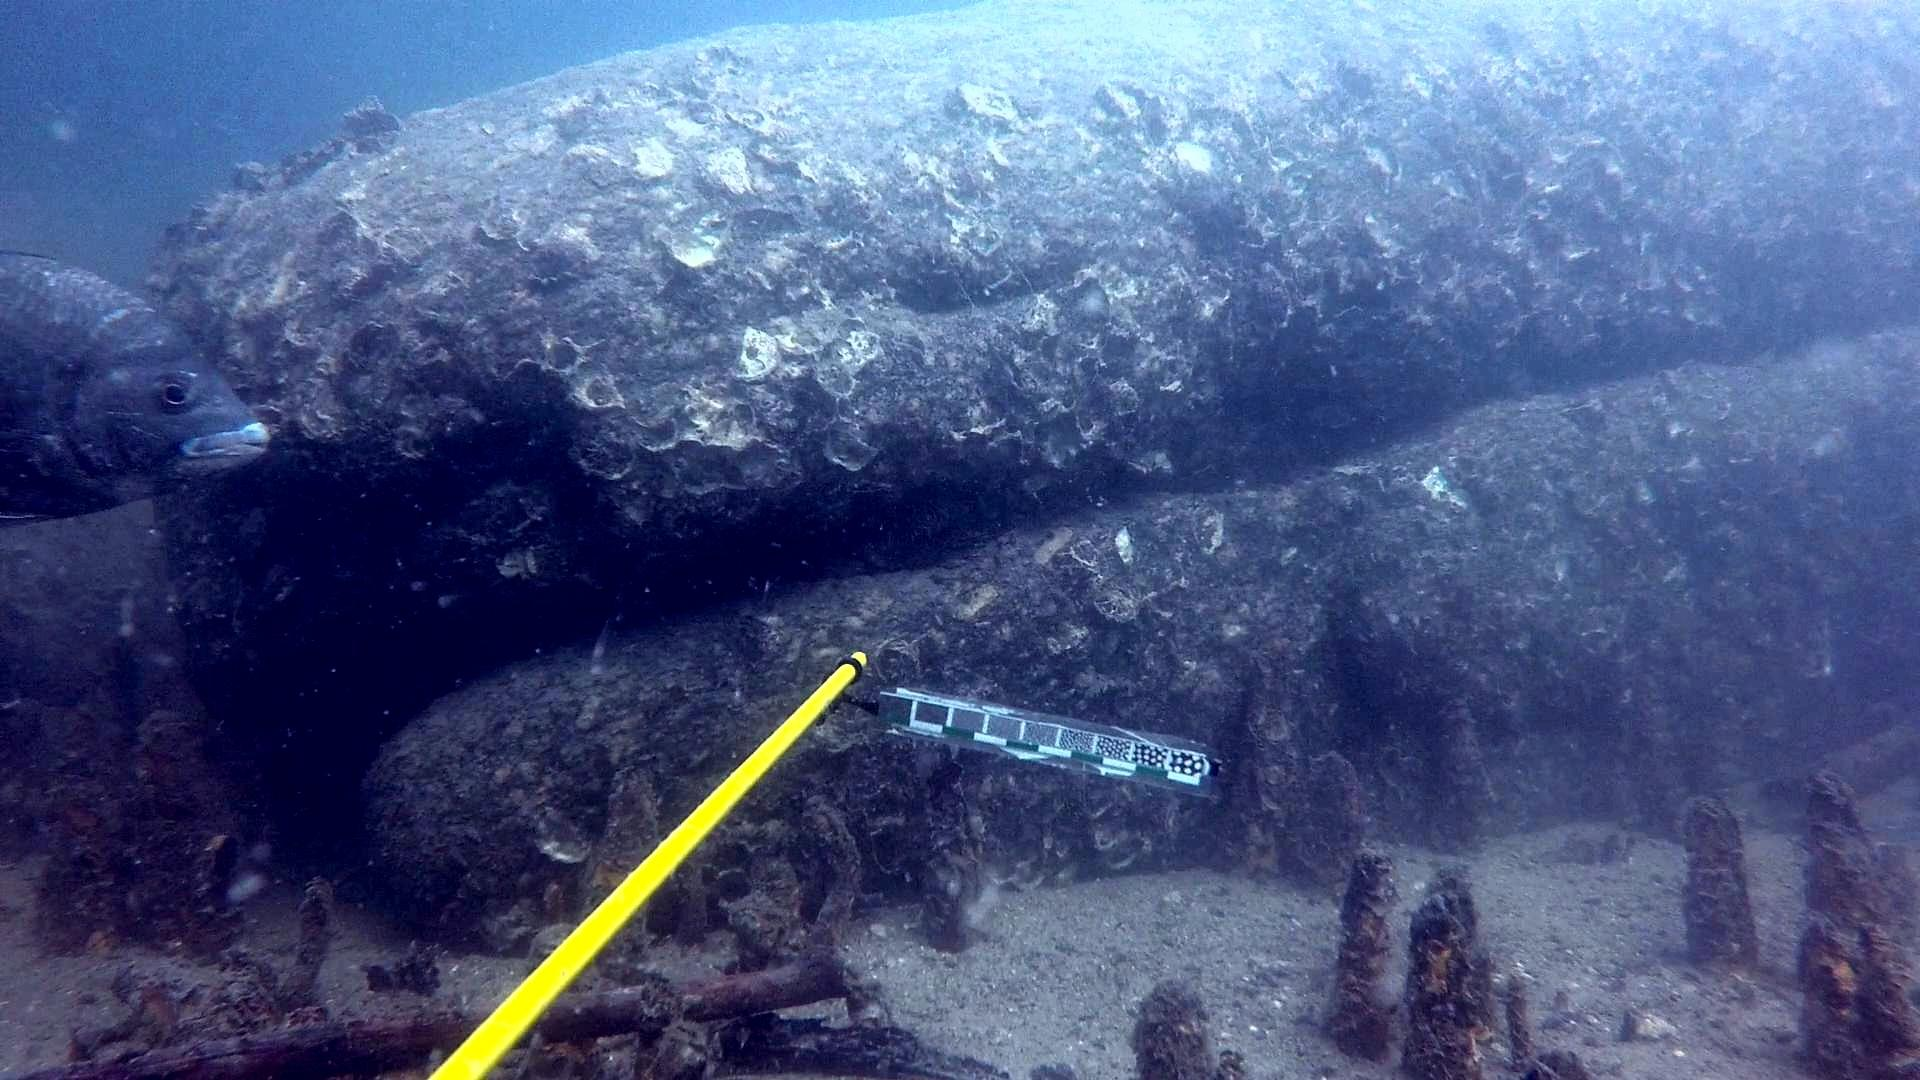acanthopagrus palmaris: (0, 220, 277, 550)
